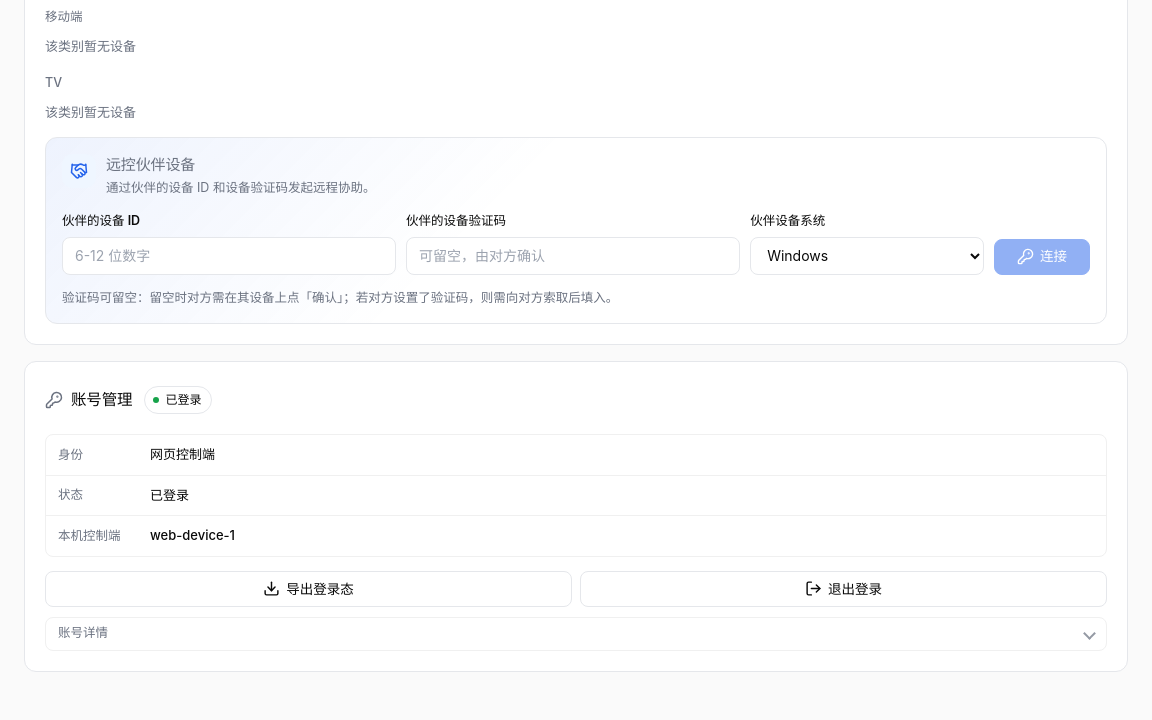
Test: App console › logs out from account management and returns to the login entry
(page scrolled)
Click the button "退出登录": (844, 589) [580,571,1107,607]
(page scrolled)
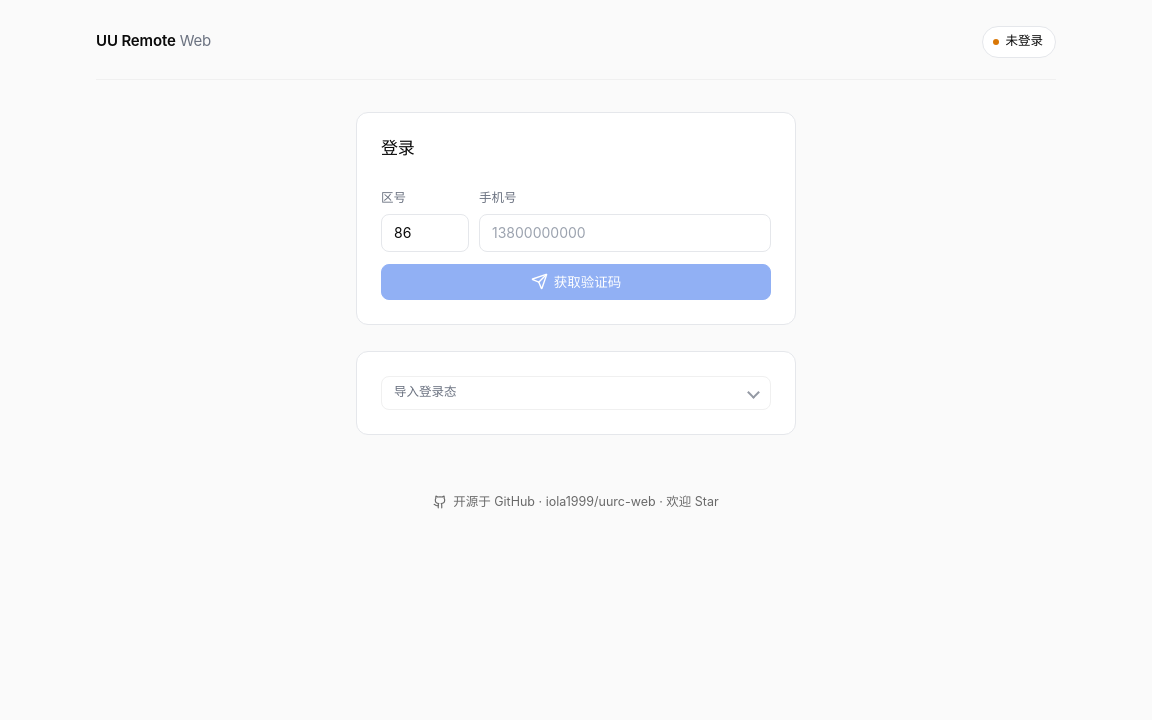
expect the heading "登录" is shown: met, box [381,138,415,158]
expect the heading "导入登录态" is shown: met, box [381,376,771,410]
